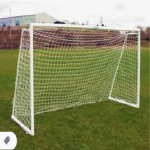goals: (11, 22, 142, 137)
